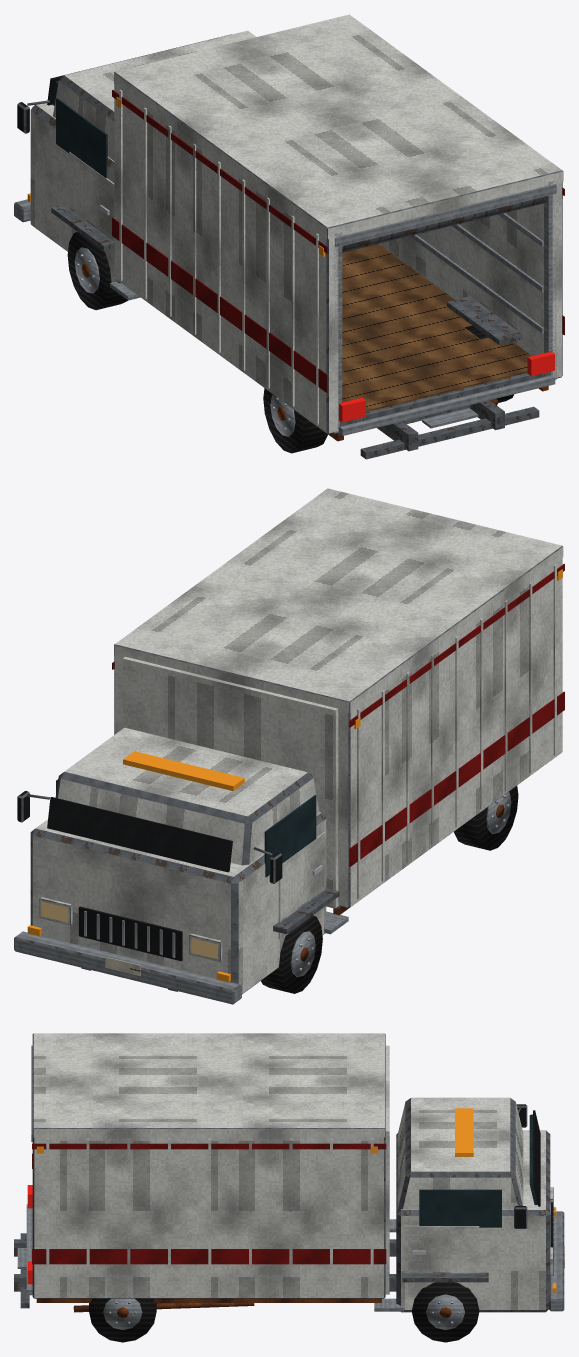
File: Truck.fbx
3 views of the same model, one above another, from view 1: azimuth 30°, elevation 25°; view 2: azimuth 150°, elevation 25°; view 3: azimuth 270°, elevation 25° (orthographic). The views are drawn at different scales.
Parts seen in each view (by area): view 1: Truck; view 2: Truck; view 3: Truck.
Part boxes in pixels (x1,y1,x2,y2): Truck: (14,14,564,459); Truck: (14,488,564,1004); Truck: (14,1033,564,1342).
Bounding box in the file's own units: 3.28 × 3.22 × 7.34.
